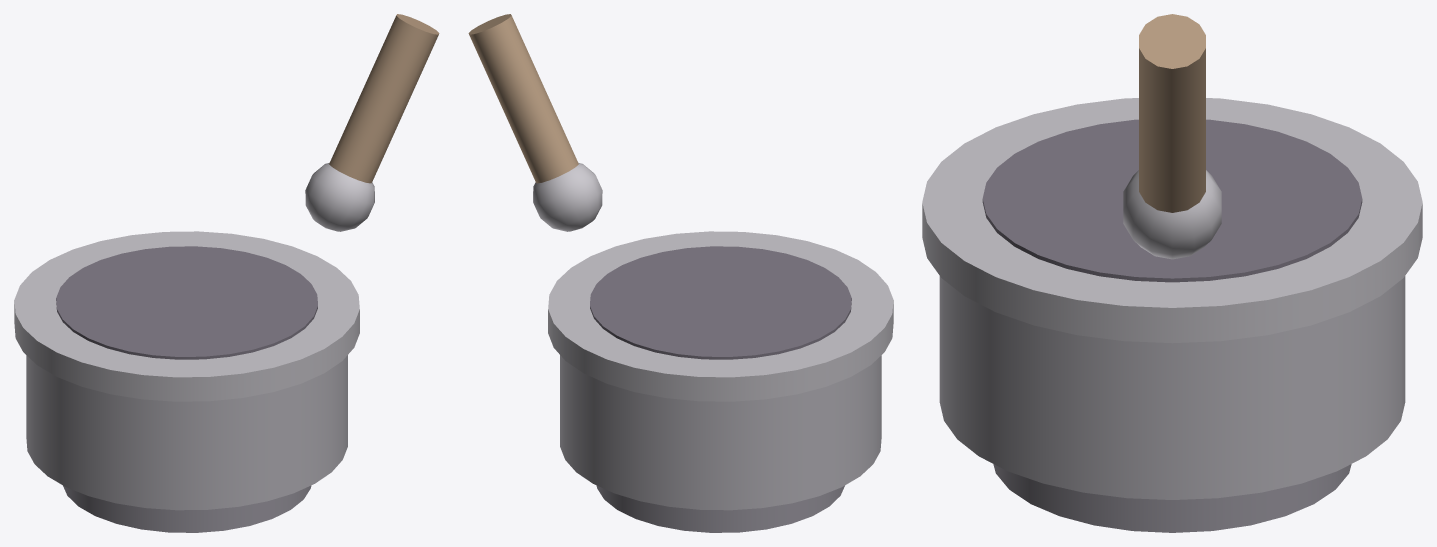
Rendered from mortar_round.glb.
3 views of the same model, side by side, from view 1: azimuth 30°, elevation 25°; view 2: azimuth 150°, elevation 25°; view 3: azimuth 270°, elevation 25° (orthographic). The views are drawn at different scales.
Parts seen in each view (by area): view 1: mortar, pestle; view 2: mortar, pestle; view 3: mortar, pestle.
Boxes of the visible parts, left/top/right/bottom form: mortar: left=14, top=231, right=359, bottom=532; pestle: left=305, top=14, right=439, bottom=231; mortar: left=548, top=231, right=893, bottom=532; pestle: left=468, top=14, right=602, bottom=231; mortar: left=922, top=98, right=1422, bottom=532; pestle: left=1123, top=14, right=1221, bottom=259.
Bounding box in the file's own units: 0.9648 × 0.9468 × 0.725.
